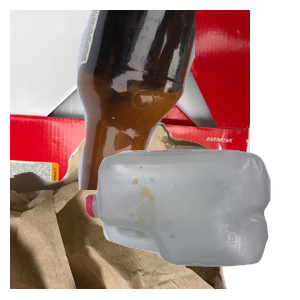cardboard: (10, 10, 250, 190)
glass: (60, 10, 300, 190)
plastic: (83, 147, 300, 300)
trash: (10, 120, 229, 300)
